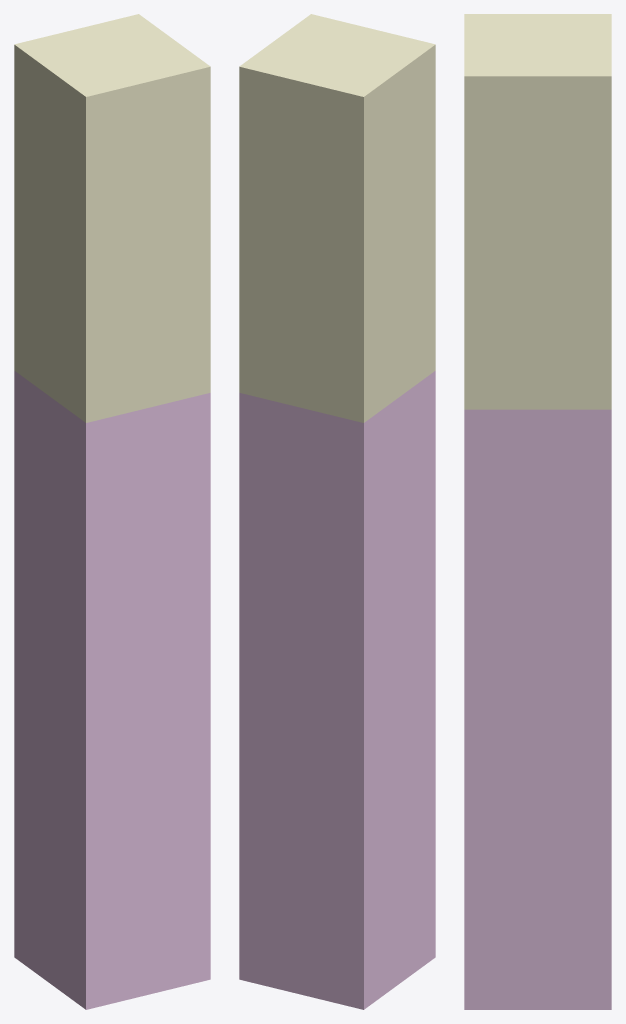
File: Wall_Pillar_A.glb
3 renders of one model, left to right at view 1: azimuth 30°, elevation 25°; view 2: azimuth 150°, elevation 25°; view 3: azimuth 270°, elevation 25°, orthographic. The views are drawn at different scales.
Visible parts, largest first — view 1: Wall Pillar A; view 2: Wall Pillar A; view 3: Wall Pillar A.
Boxes of the visible parts, left/top/right/bottom form: Wall Pillar A: left=14, top=14, right=210, bottom=1009; Wall Pillar A: left=239, top=14, right=435, bottom=1009; Wall Pillar A: left=464, top=14, right=611, bottom=1009.
Size of the model in its own units: 0.5 by 3.5 by 0.5.
